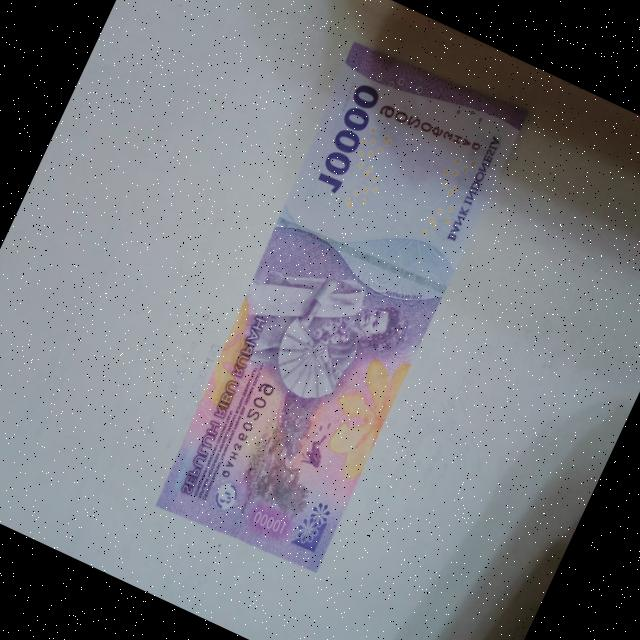10K: (128, 24, 540, 590)
